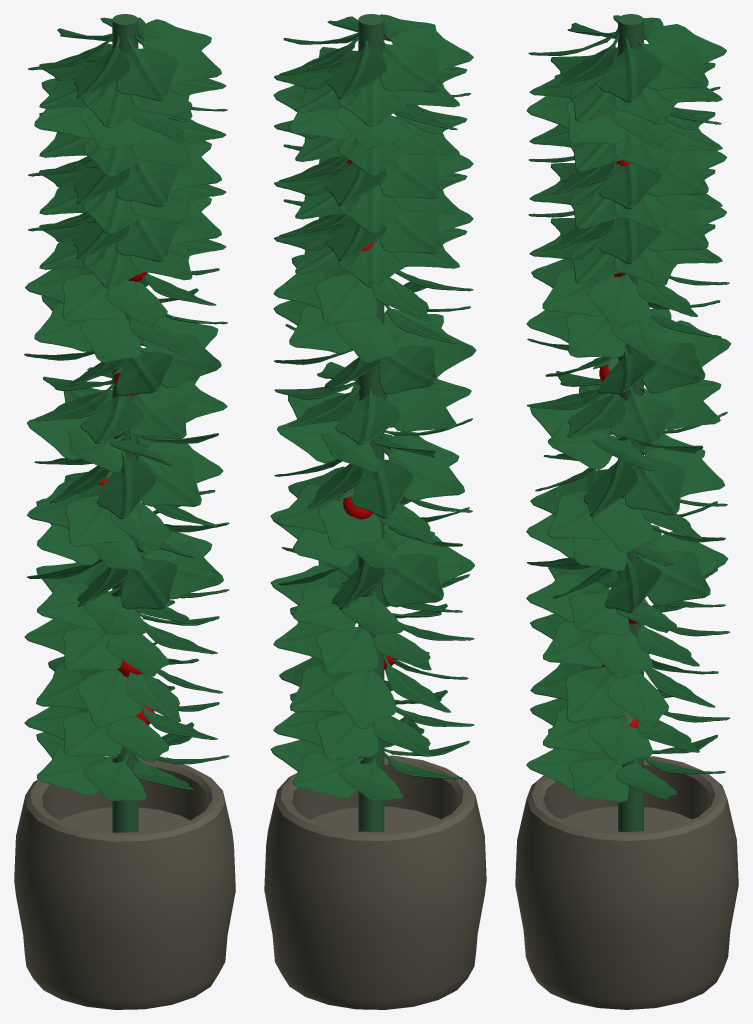
Rendered from Tomato plant.fbx.
3 renders of one model, left to right at view 1: azimuth 30°, elevation 25°; view 2: azimuth 150°, elevation 25°; view 3: azimuth 270°, elevation 25°, orthographic.
Visible parts, largest first — view 1: pCube4507; view 2: pCube4507; view 3: pCube4507.
Part boxes in pixels (x1,y1,x2,y2): pCube4507: (14, 14, 235, 1009); pCube4507: (264, 14, 486, 1009); pCube4507: (515, 14, 738, 1009).
Size of the model in its own units: 69.02 by 326 by 69.02.
